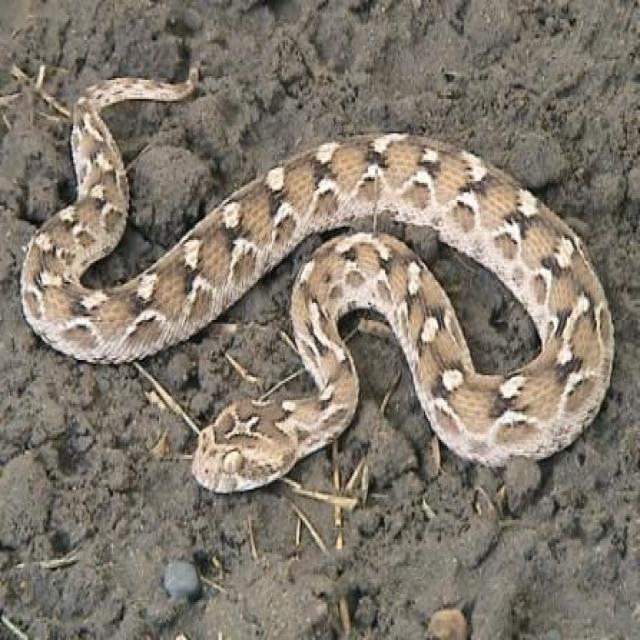Snake: (18, 56, 620, 501)
